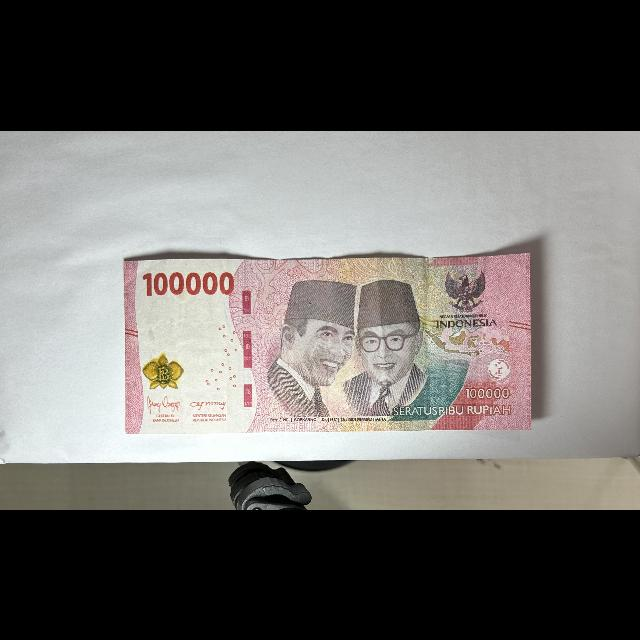Palsu-100k: (123, 250, 533, 434)
Tinta-Palsu-100k: (142, 351, 185, 390)
